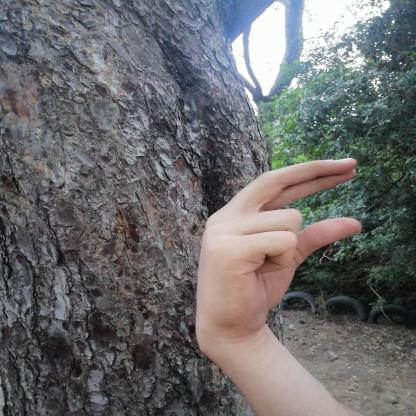DHELL: (176, 146, 378, 338)
